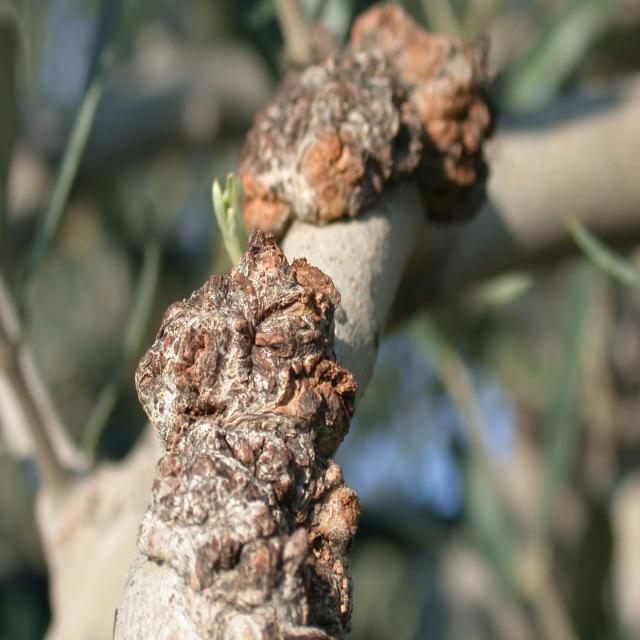Tuberculosis: (136, 231, 360, 640), (238, 4, 494, 240)
